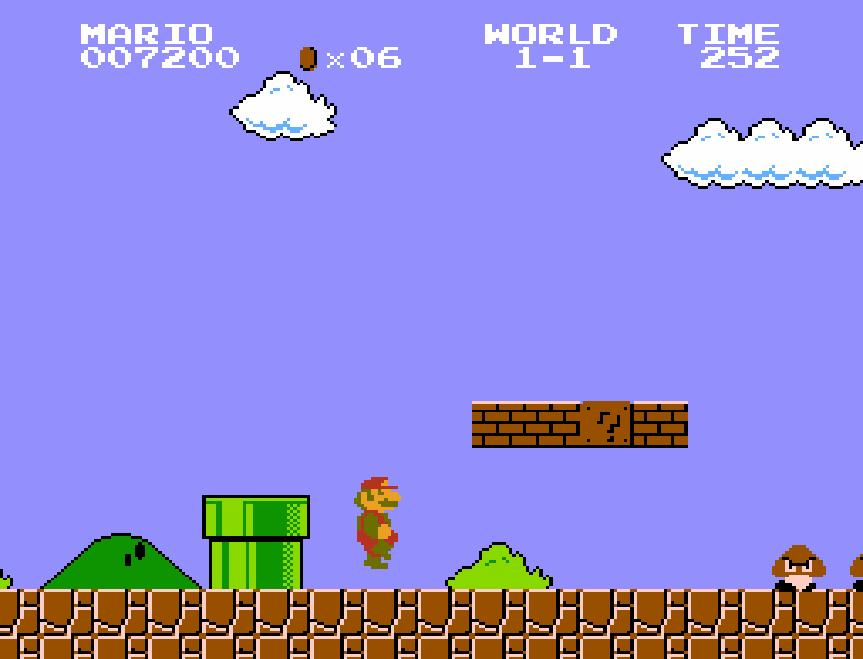big_mario: (348, 472, 406, 570)
